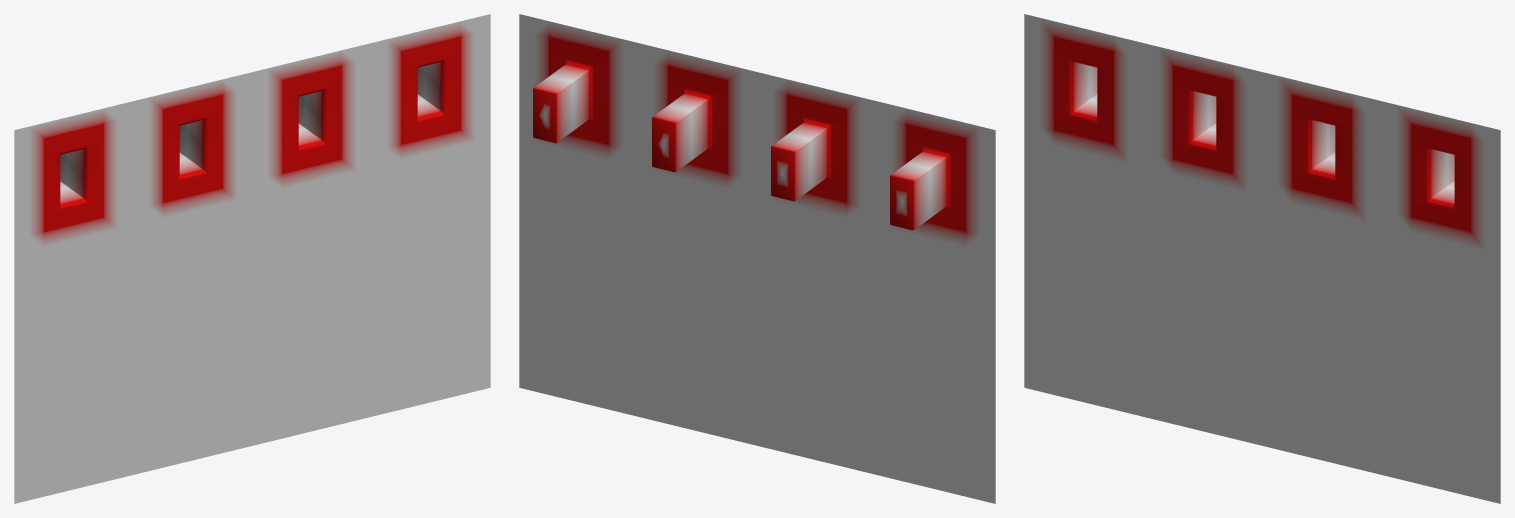
Rendered from wall_hole_400x300_01_wood.fbx.
3 renders of one model, left to right at view 1: azimuth 30°, elevation 25°; view 2: azimuth 150°, elevation 25°; view 3: azimuth 330°, elevation 25°, orthographic.
Parts seen in each view (by area): view 1: wall_hole_400x300_01_wood; view 2: wall_hole_400x300_01_wood; view 3: wall_hole_400x300_01_wood.
Boxes of the visible parts, <box> form: wall_hole_400x300_01_wood: <box>14,14,490,503</box>; wall_hole_400x300_01_wood: <box>519,14,995,503</box>; wall_hole_400x300_01_wood: <box>1024,14,1500,503</box>.
Bounding box in the file's own units: 4 × 3 × 0.5.
